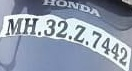character: (5, 17, 22, 35), (22, 17, 39, 34), (54, 19, 68, 38), (73, 24, 86, 43), (43, 18, 55, 36), (91, 30, 102, 49), (101, 36, 110, 55), (118, 47, 127, 65), (111, 42, 119, 60)
